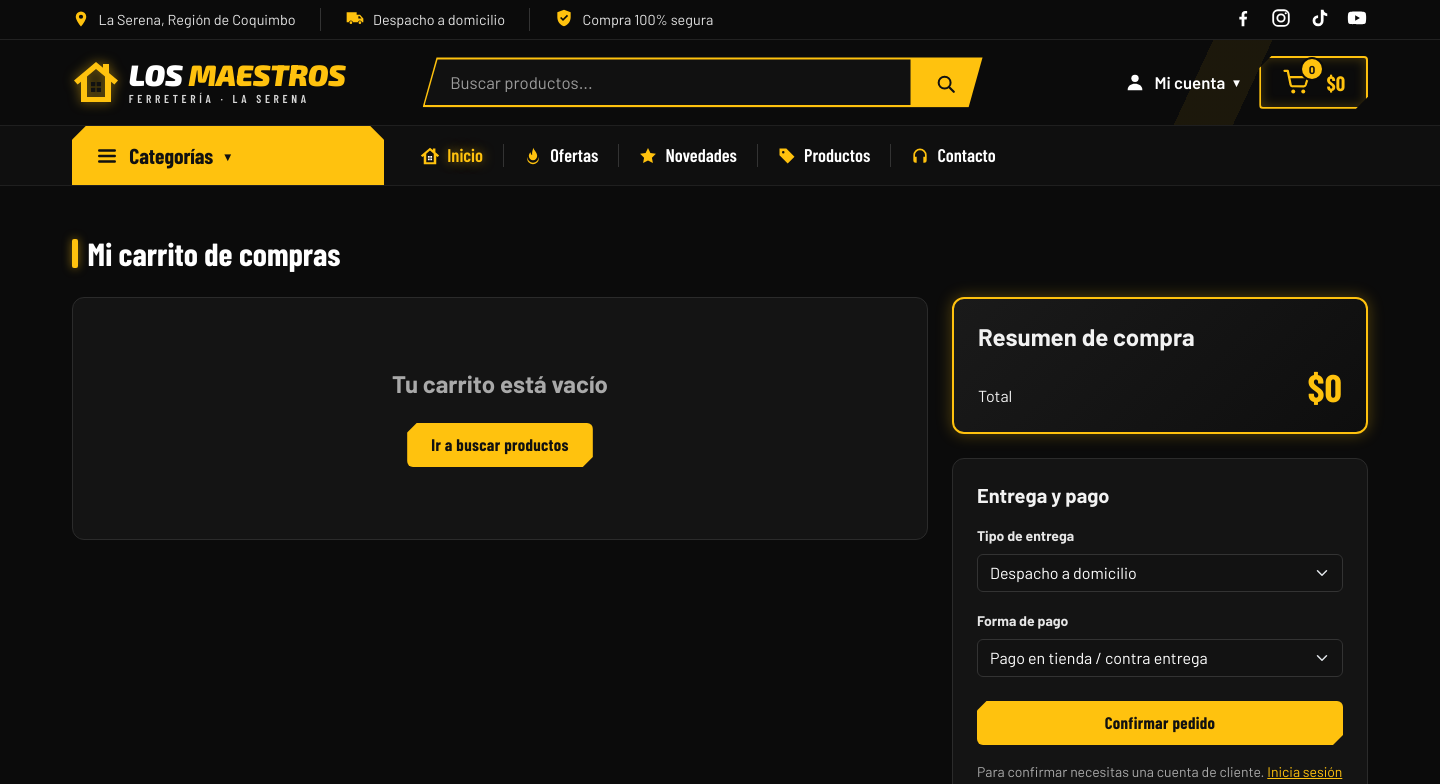
Página Carrito › al elegir despacho aparece el campo de dirección
Select "Despacho a domicilio" in the dropdown with id "tipoEntrega": x=1160, y=572 [977, 554, 1343, 592]
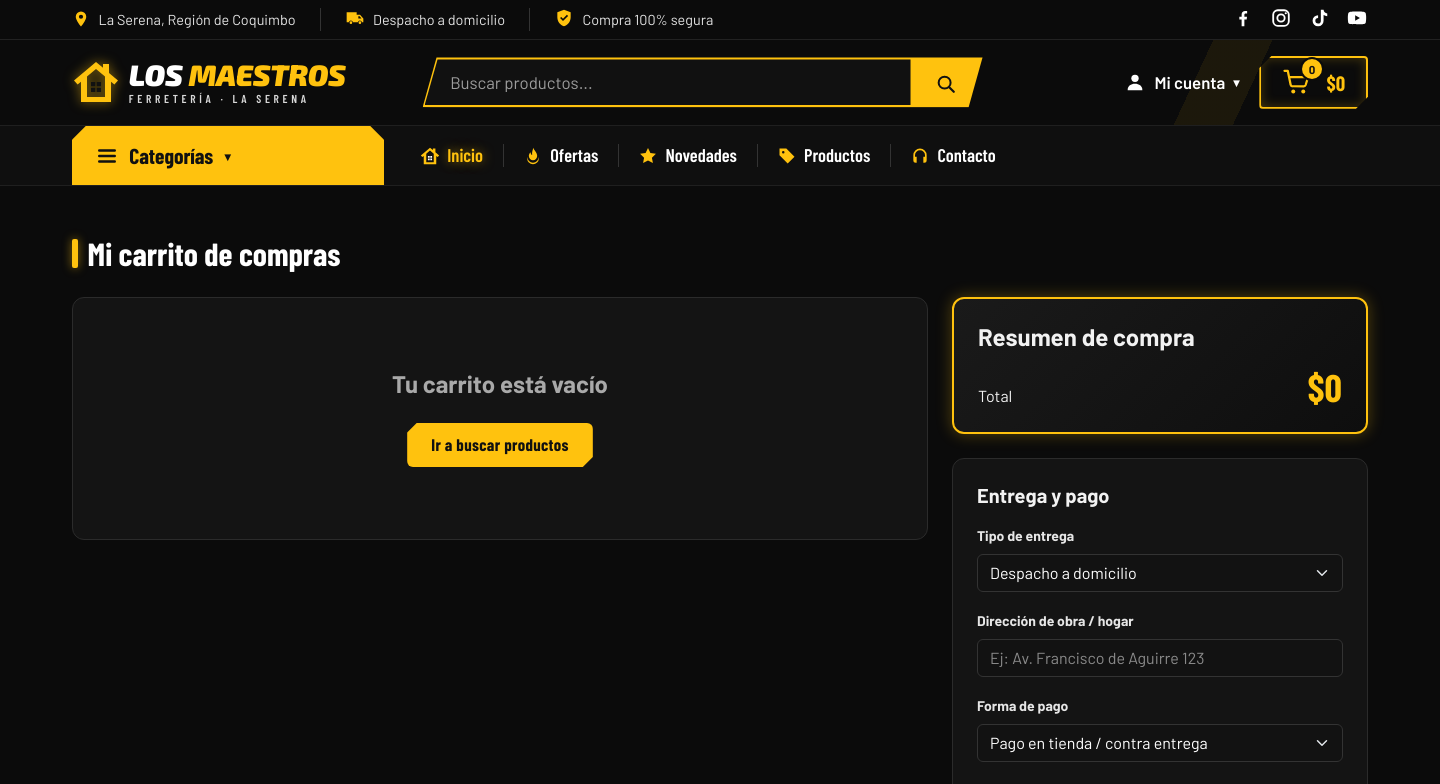
Expected: the field with id "direccion" is shown, [977, 638, 1343, 676]
